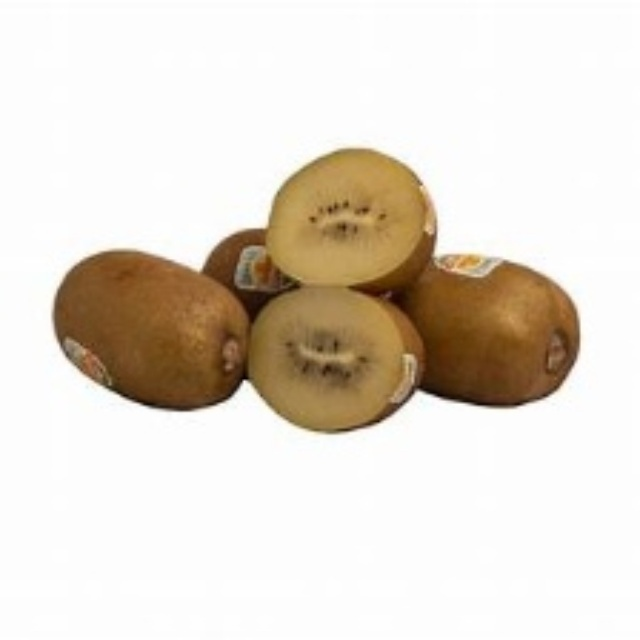kiwi: (266, 164, 425, 433), (65, 232, 255, 416), (404, 255, 579, 405)
